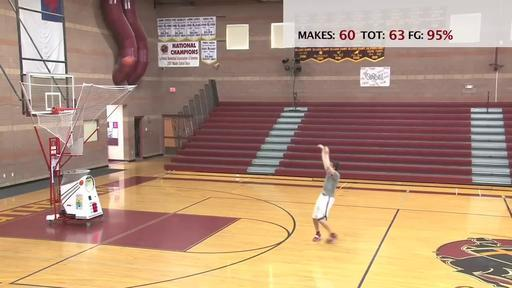ball: (121, 55, 137, 66)
human: (312, 144, 340, 244)
rim: (56, 108, 78, 125)
